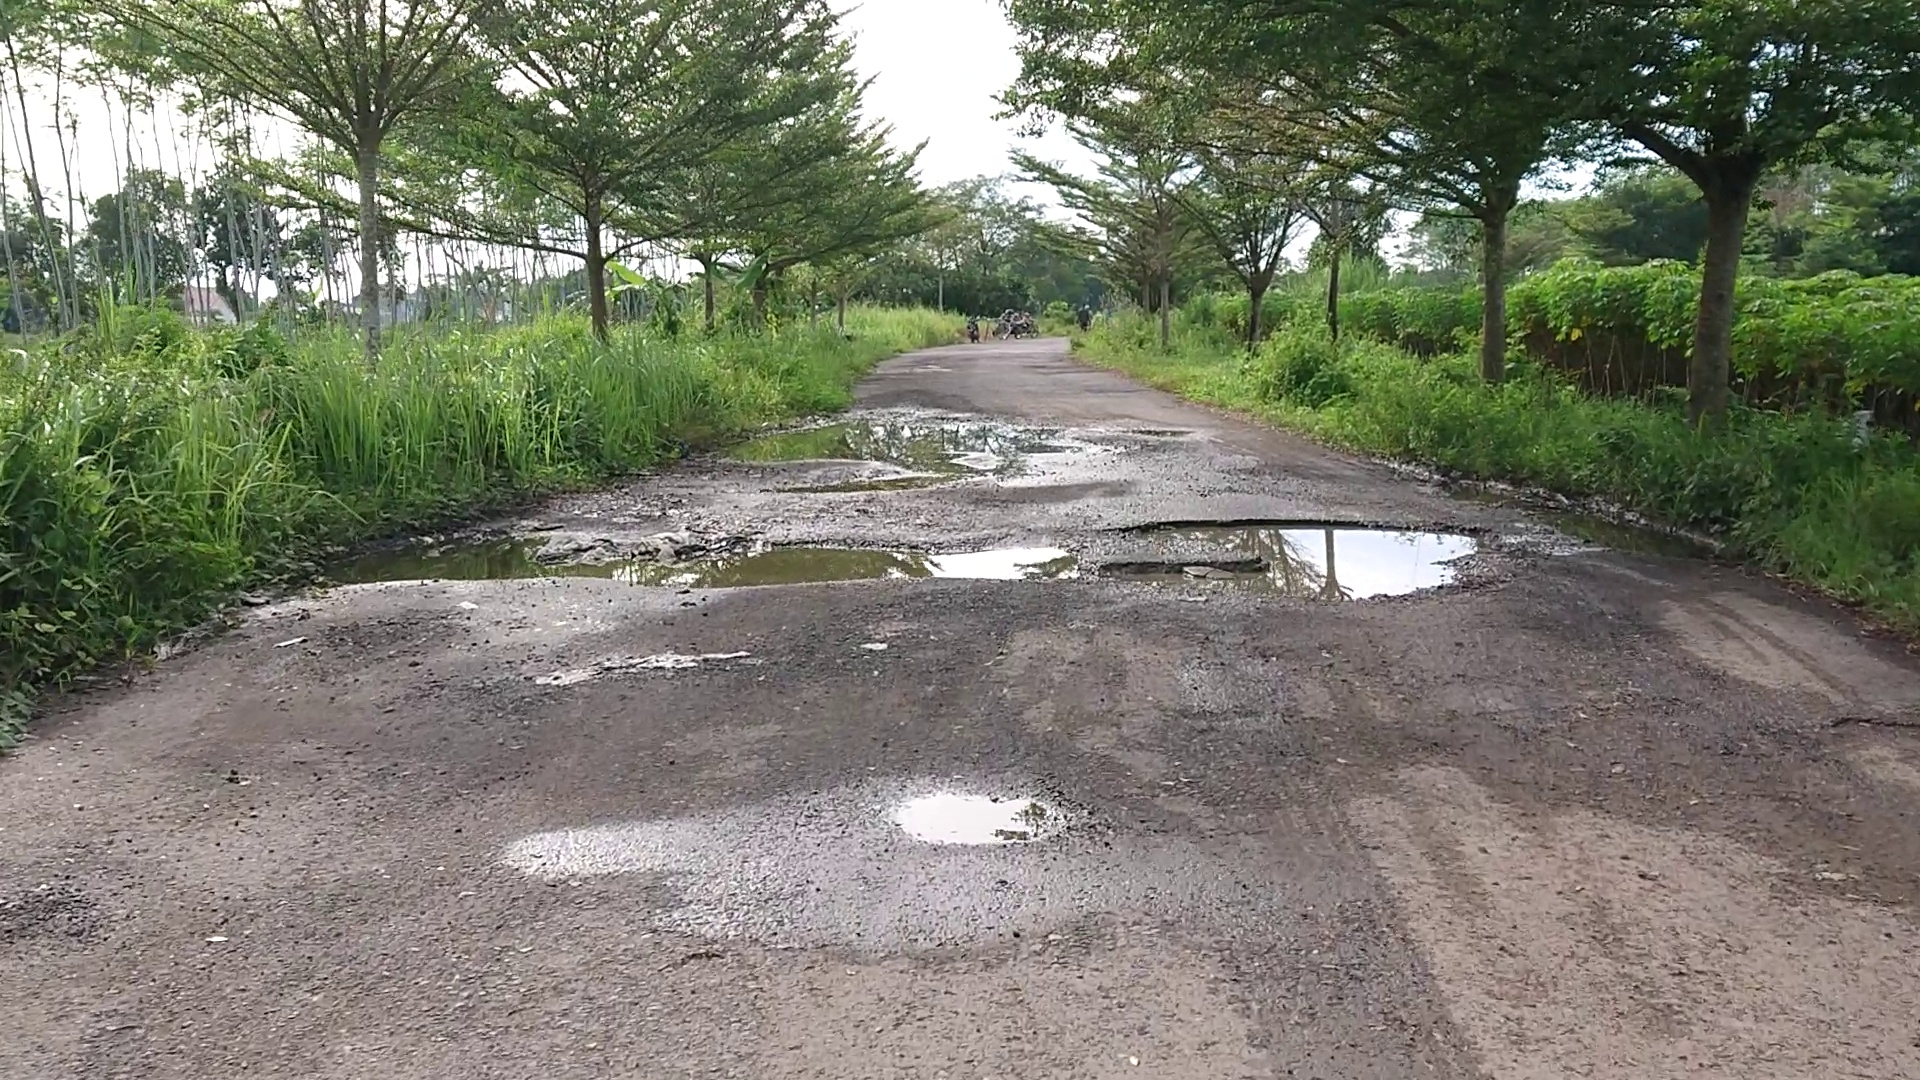Berlubang: (1098, 526, 1494, 597), (377, 543, 1083, 580), (742, 419, 1116, 477)
